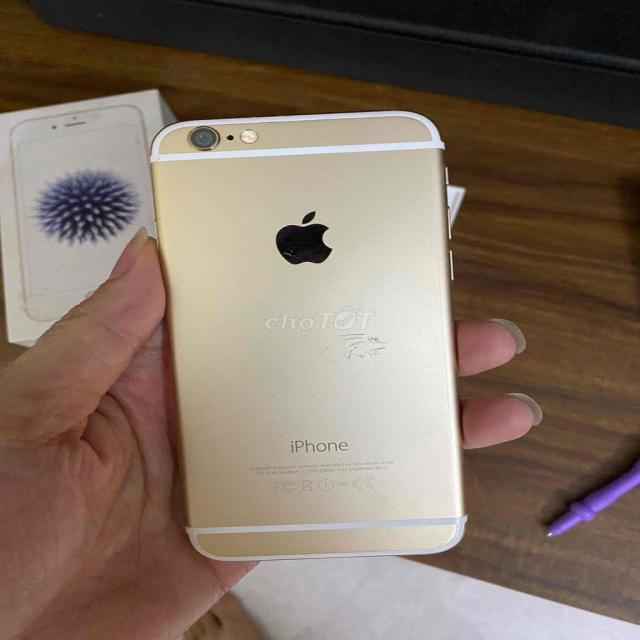scratch: (292, 314, 422, 387)
